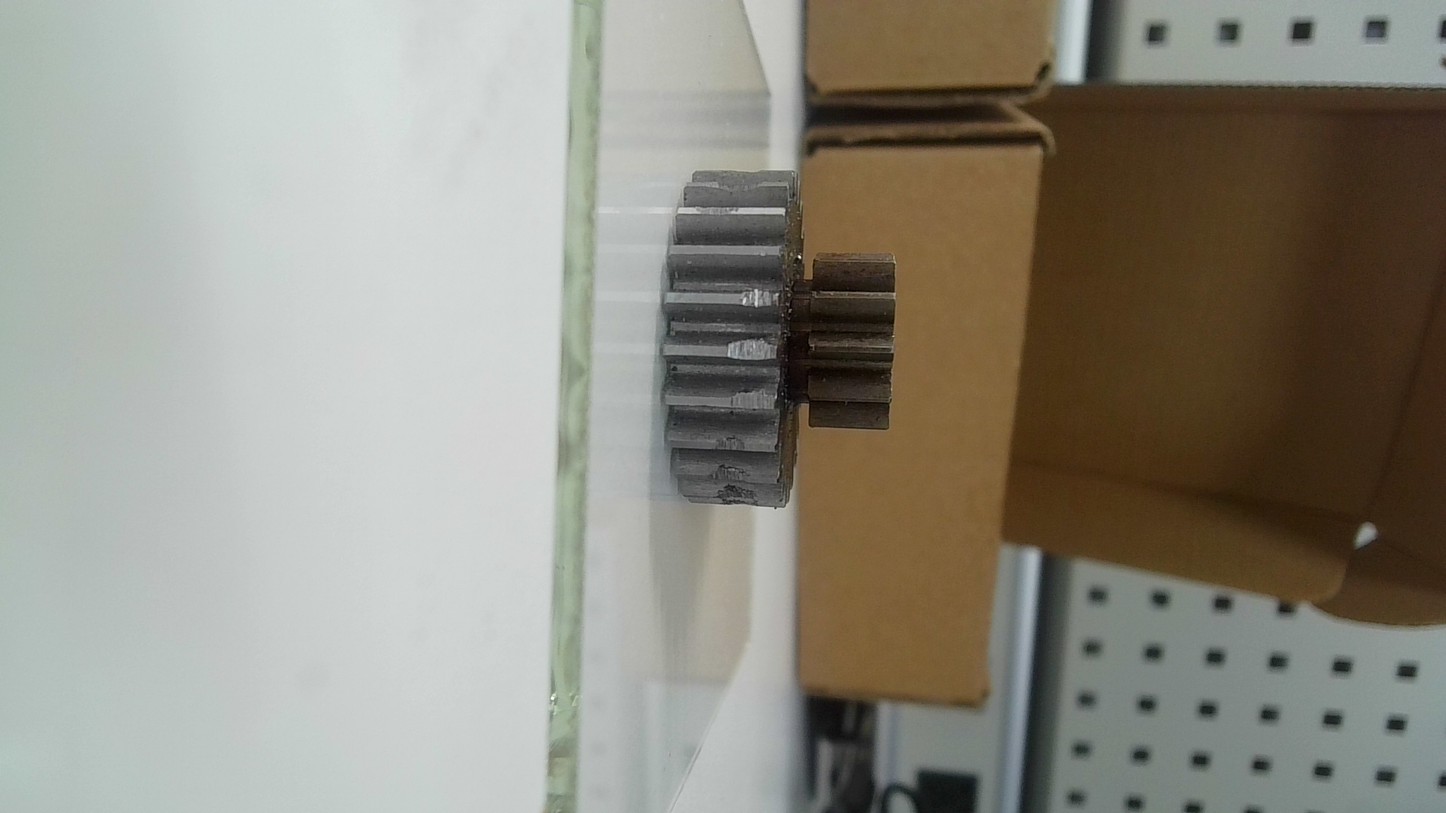gear: (661, 160, 900, 517)
